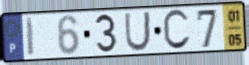3: (93, 12, 119, 56)
6: (56, 13, 82, 58)
7: (195, 8, 220, 50)
C: (161, 7, 193, 52)
I: (25, 16, 37, 58)
U: (123, 10, 152, 53)
